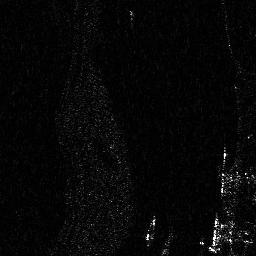ship: (208, 216, 220, 253), (145, 214, 158, 243)
